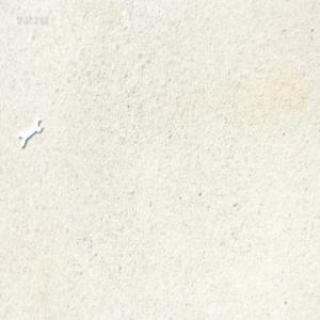Wrenchtrack_idkeyframe: (18, 113, 42, 147)
